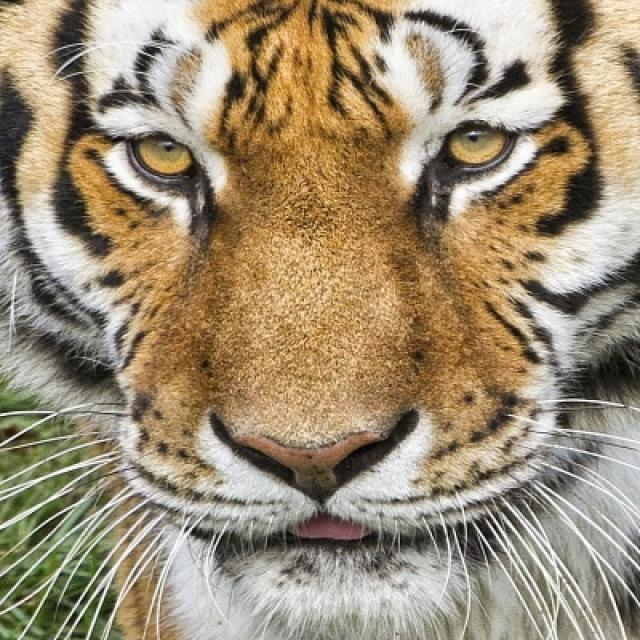Tiger: (23, 4, 620, 556)
